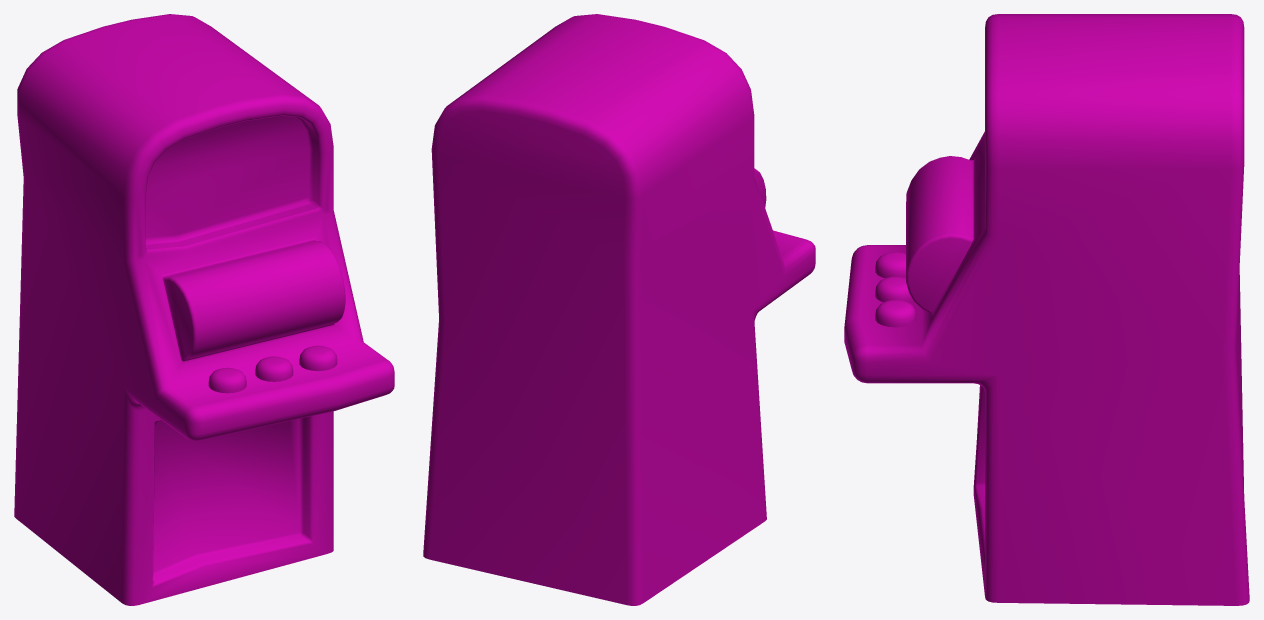
File: SM_SlotMachine001.fbx
3 views of the same model, side by side, from view 1: azimuth 30°, elevation 25°; view 2: azimuth 150°, elevation 25°; view 3: azimuth 270°, elevation 25° (orthographic). The views are drawn at different scales.
Visible parts, largest first — view 1: SM_SlotMachine001; view 2: SM_SlotMachine001; view 3: SM_SlotMachine001.
Part boxes in pixels (box(x1,y1,x2,y2)): SM_SlotMachine001: box(14, 14, 394, 605); SM_SlotMachine001: box(423, 14, 815, 605); SM_SlotMachine001: box(844, 14, 1249, 605).
Bounding box in the file's own units: 106 × 216 × 156.
